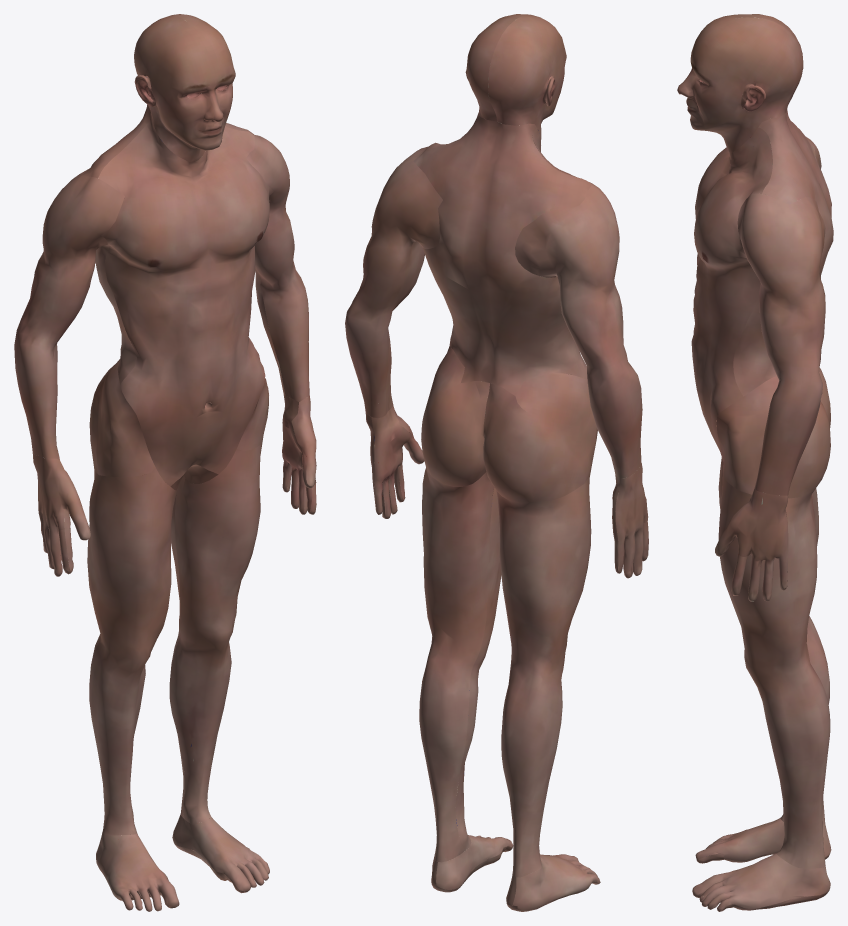
Rendered from thorax.glb.
3 renders of one model, left to right at view 1: azimuth 30°, elevation 25°; view 2: azimuth 150°, elevation 25°; view 3: azimuth 270°, elevation 25°, orthographic.
Parts seen in each view (by area): view 1: Skin; view 2: Skin; view 3: Skin.
Boxes of the visible parts, box(x1,y1,x2,y2) form: Skin: box(14, 14, 316, 911); Skin: box(345, 14, 648, 911); Skin: box(677, 14, 833, 911).
Size of the model in its own units: 0.5859 by 1.7 by 0.2796.
Materials: 12 (12 with a texture image).
